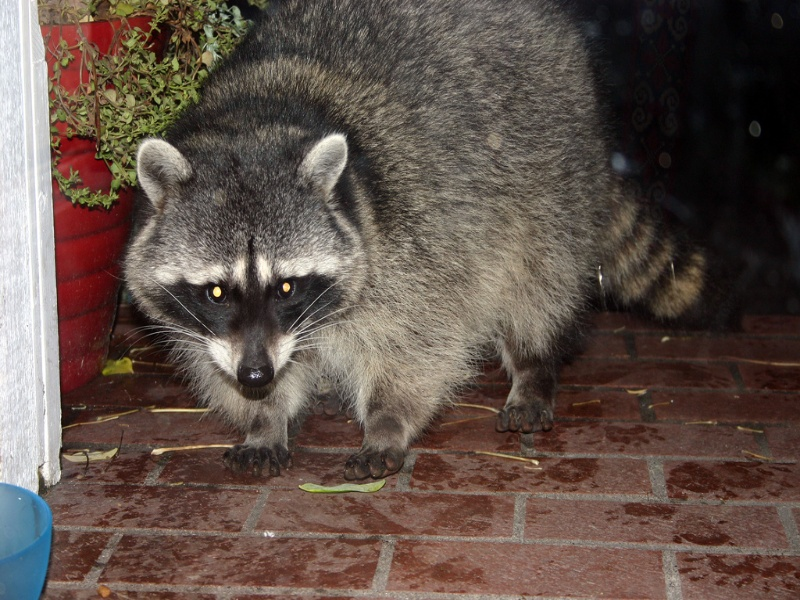raccoon: (125, 4, 710, 492)
